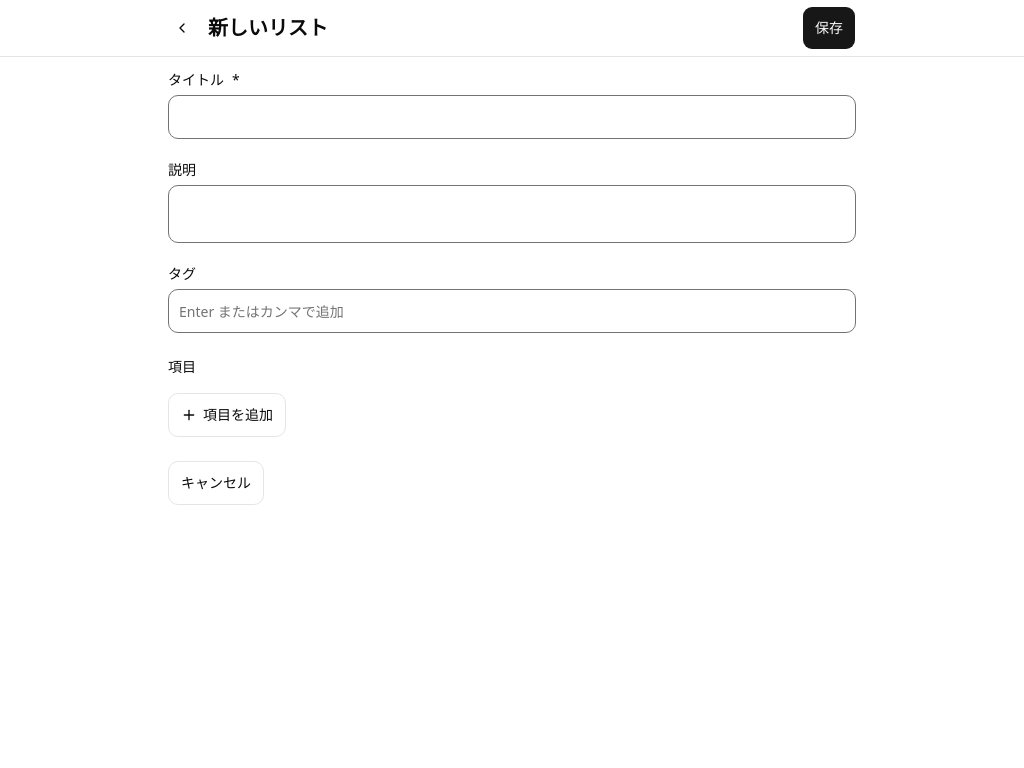
Scenario: ListEdit（新規作成） › 保存に失敗したらトーストを出し、入力を残す
This screenshot has width=1024, height=768.
Expected: the heading "新しいリスト" is shown, [208,14,328,41]
Type "旅行の持ち物" into the field labelled "タイトル *".
click(512, 117); type("旅行の持ち物")  # box [168,95,856,139]
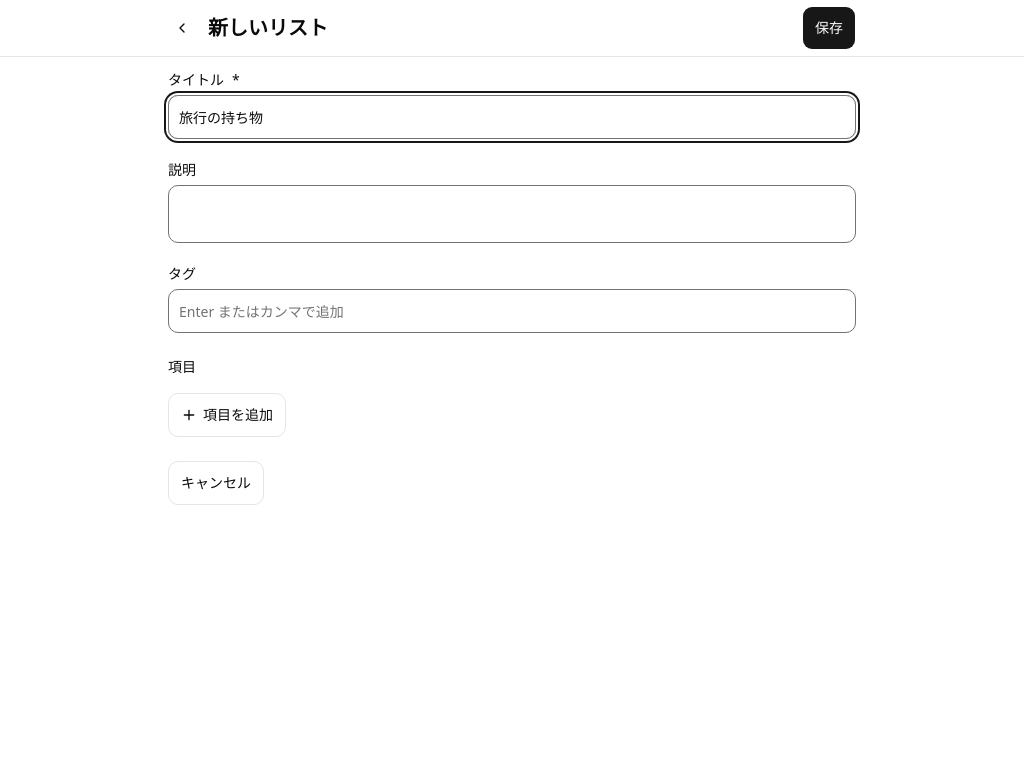
Click the button "保存".
click(829, 28)  # box [802,6,856,50]
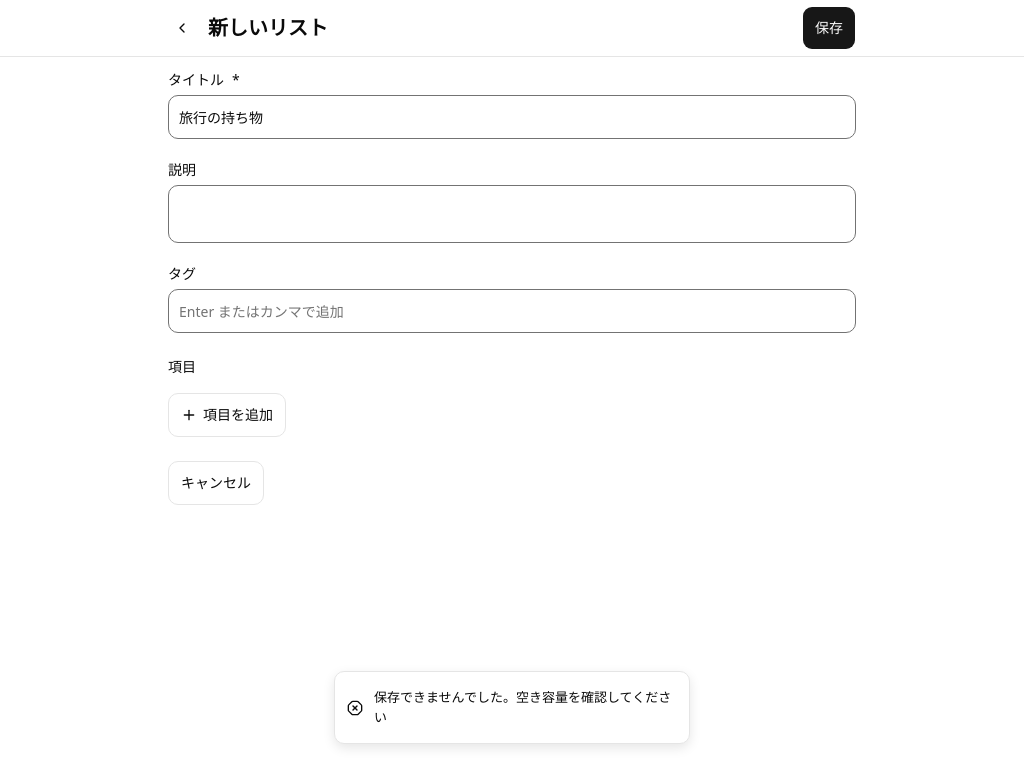
Expected: the text "保存できませんでした。空き容量を確認してください" is shown, [374,688,673,727]
